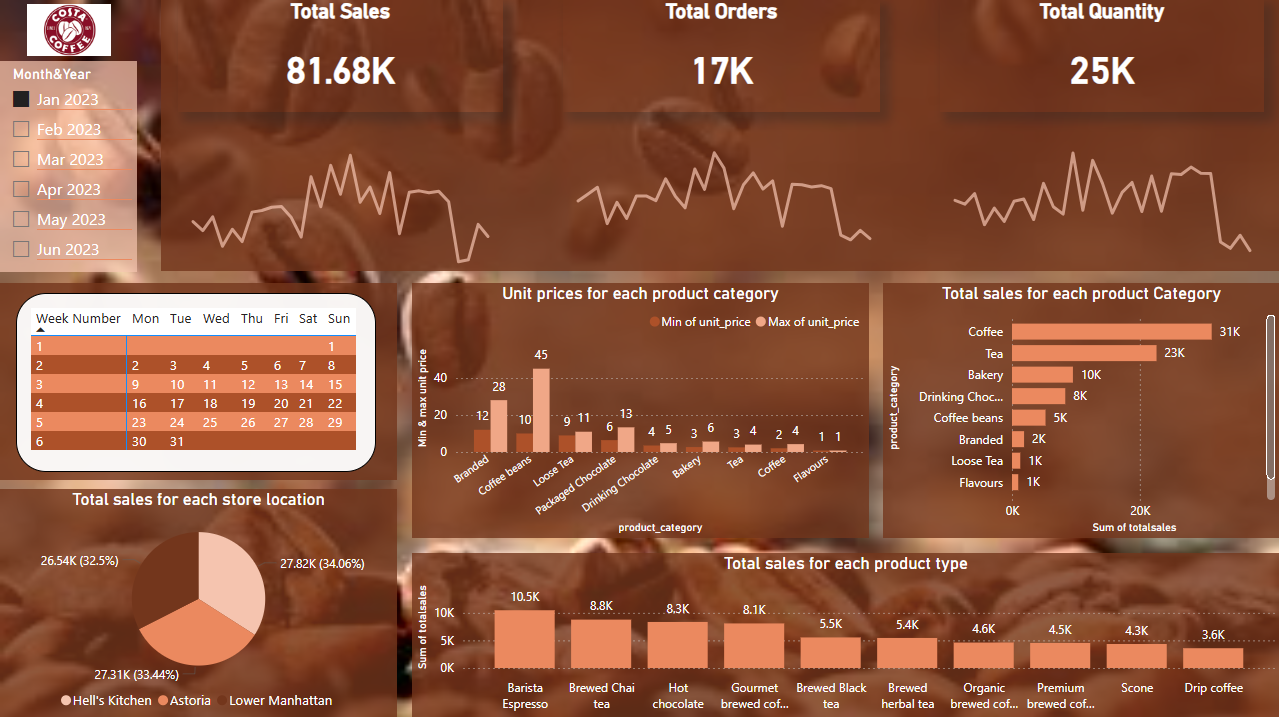

What the dashboard file says about the page in this screenshot:
{"tool":"powerbi","page":{"name":"Dashboard","canvas":[1280,720],"ordinal":0},"visuals":[{"type":"shape","box":[160.9,0,1119,272],"z":0,"group":"g2"},{"type":"shape","box":[412.3,283.8,456.9,255.4],"z":0},{"type":"shape","box":[0,284,397,197],"z":0,"group":"g1"},{"type":"shape","box":[0,490,397,230],"z":0,"group":"g3"},{"type":"shape","box":[412,554,868,166],"z":0,"group":"g4"},{"type":"image","box":[0,0,137,62],"z":1000},{"type":"card","title":"Total Sales","fields":{"Values":["Sum(Table1.totalsales)"]},"box":[178.1,0,324.6,112.8],"z":1000,"group":"g2"},{"type":"pivotTable","fields":{"Columns":["Date Table.Day name"],"Rows":["Date Table.Week Number"],"Values":["Min(Date Table.Day Number)"]},"box":[16,294,360,179],"z":1000,"group":"g1"},{"type":"pieChart","title":"Total sales for each store location","fields":{"Category":["Table1.store_location"],"Y":["Sum(Table1.totalsales)"]},"box":[0,490,397,230],"z":1000,"group":"g3"},{"type":"clusteredColumnChart","title":"Total sales for each product type","fields":{"Category":["Table1.product_type"],"Y":["Sum(Table1.totalsales)"]},"box":[412,554,868,166],"z":1000,"group":"g4"},{"type":"card","title":"Total Quantity","fields":{"Values":["measures0.Total Quantity sold"]},"box":[939.8,0,323.8,112.8],"z":2000,"group":"g2"},{"type":"shape","box":[883,284,397,255],"z":2000},{"type":"card","title":"Total Orders","fields":{"Values":["measures0.Total Orders"]},"box":[562.8,0,316.9,112.8],"z":3000,"group":"g2"},{"type":"slicer","fields":{"Values":["Date Table.Month&Year"]},"box":[0,62,137,211],"z":3000},{"type":"lineChart","fields":{"Y":["Sum(Table1.totalsales)"],"Category":["Date Table.Date.Variation.Date Hierarchy.Year","Date Table.Date.Variation.Date Hierarchy.Quarter","Date Table.Date.Variation.Date Hierarchy.Month","Date Table.Date.Variation.Date Hierarchy.Day"]},"box":[178.1,124.2,324.6,147.8],"z":4000,"group":"g2"},{"type":"barChart","title":"Total sales for each  product Category","fields":{"Category":["Table1.product_category"],"Y":["Sum(Table1.totalsales)"]},"box":[883,284,397,255],"z":4000},{"type":"lineChart","fields":{"Category":["Date Table.Date.Variation.Date Hierarchy.Year","Date Table.Date.Variation.Date Hierarchy.Quarter","Date Table.Date.Variation.Date Hierarchy.Month","Date Table.Date.Variation.Date Hierarchy.Day"],"Y":["measures0.Total Orders"]},"box":[563,124,321.5,147.8],"z":5000,"group":"g2"},{"type":"group","id":"g1","title":"Group 2","box":[0,284,397,197],"z":5000},{"type":"group","id":"g2","title":"Group 3","box":[160.9,0,1119.1,271.8],"z":6000},{"type":"lineChart","fields":{"Category":["Date Table.Date.Variation.Date Hierarchy.Year","Date Table.Date.Variation.Date Hierarchy.Quarter","Date Table.Date.Variation.Date Hierarchy.Month","Date Table.Date.Variation.Date Hierarchy.Day"],"Y":["measures0.Total Quantity sold"]},"box":[939.8,124.2,324.6,147.8],"z":6000,"group":"g2"},{"type":"group","id":"g3","title":"Group 4","box":[0,490,397,230],"z":7000},{"type":"group","id":"g4","title":"Group 5","box":[412,554,868,166],"z":8000},{"type":"clusteredColumnChart","title":"Unit prices for each product category","fields":{"Category":["Table1.product_category"],"Y":["Min(Table1.unit_price)","Max(Table1.unit_price)"]},"box":[412.3,283.8,456.9,255.4],"z":9000}]}

Visuals, with their boxes in screenshot pixels (x1, y1, x2, y2), scaled from the page's 1280x720 canvas onto the 1279x717 screenshot:
shape: bbox=[161, 0, 1278, 271]
shape: bbox=[412, 283, 869, 537]
shape: bbox=[0, 283, 397, 479]
shape: bbox=[0, 488, 397, 716]
shape: bbox=[412, 552, 1278, 716]
image: bbox=[0, 0, 137, 62]
"Total Sales" card: bbox=[178, 0, 502, 112]
pivotTable - Date Table.Day name x Date Table.Week Number: bbox=[16, 293, 376, 471]
"Total sales for each store location" pieChart: bbox=[0, 488, 397, 716]
"Total sales for each product type" clusteredColumnChart: bbox=[412, 552, 1278, 716]
"Total Quantity" card: bbox=[939, 0, 1263, 112]
shape: bbox=[882, 283, 1278, 537]
"Total Orders" card: bbox=[562, 0, 879, 112]
slicer - Date Table.Month&Year: bbox=[0, 62, 137, 272]
lineChart - Sum(Table1.totalsales) x Date Table.Date.Variation.Date Hierarchy.Year: bbox=[178, 124, 502, 271]
"Total sales for each  product Category" barChart: bbox=[882, 283, 1278, 537]
lineChart - Date Table.Date.Variation.Date Hierarchy.Year x Date Table.Date.Variation.Date Hierarchy.Quarter: bbox=[563, 123, 884, 271]
"Group 2" group: bbox=[0, 283, 397, 479]
"Group 3" group: bbox=[161, 0, 1278, 271]
lineChart - Date Table.Date.Variation.Date Hierarchy.Year x Date Table.Date.Variation.Date Hierarchy.Quarter: bbox=[939, 124, 1263, 271]
"Group 4" group: bbox=[0, 488, 397, 716]
"Group 5" group: bbox=[412, 552, 1278, 716]
"Unit prices for each product category" clusteredColumnChart: bbox=[412, 283, 869, 537]
